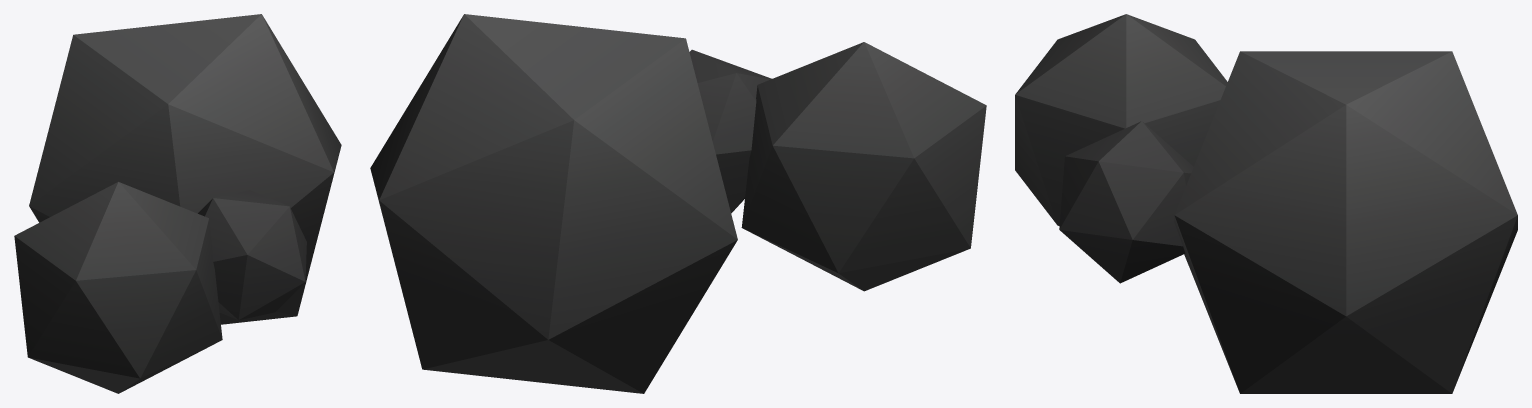
File: W3_CLUTTER_2.fbx
The picture shows the model from 3 angles, left to right: view 1: azimuth 30°, elevation 25°; view 2: azimuth 150°, elevation 25°; view 3: azimuth 270°, elevation 25°; orthographic projection. The views are drawn at different scales.
Visible parts, largest first — view 1: W3_CLUTTER_2; view 2: W3_CLUTTER_2; view 3: W3_CLUTTER_2.
Part boxes in pixels (x1,y1,x2,y2): W3_CLUTTER_2: (14, 14, 341, 393); W3_CLUTTER_2: (370, 14, 986, 393); W3_CLUTTER_2: (1015, 14, 1517, 393).
Bounding box in the file's own units: 28.46 × 18.85 × 26.91.
